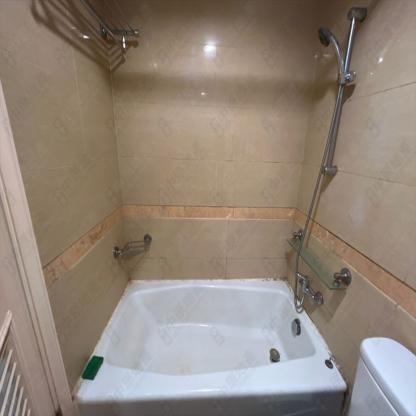Bathtub: (71, 277, 349, 394)
Toilet Sink: (347, 332, 416, 415)
